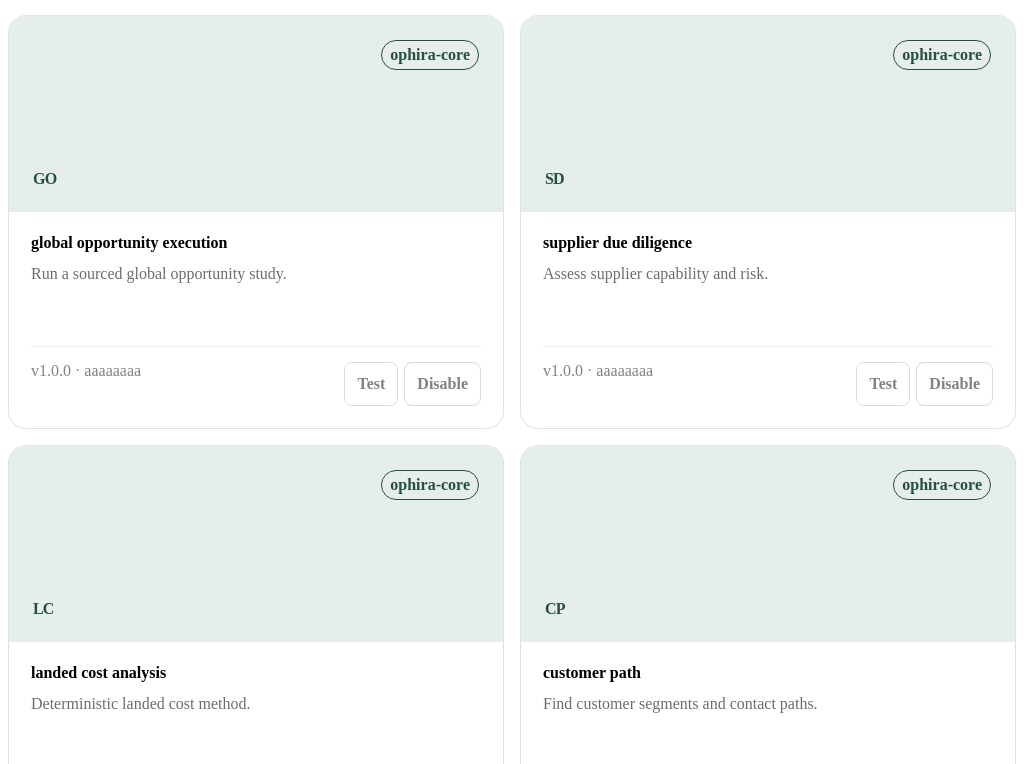
Test: SkillsPage › runs the deterministic package test and renders the checks
This screenshot has width=1024, height=764.
(page scrolled)
expect the heading "supplier due diligence" is shown: met, box [543,234,692,251]
Click the button "Test" below "Assess supplier capability and risk." at (883, 384), box [856,362,910,406]
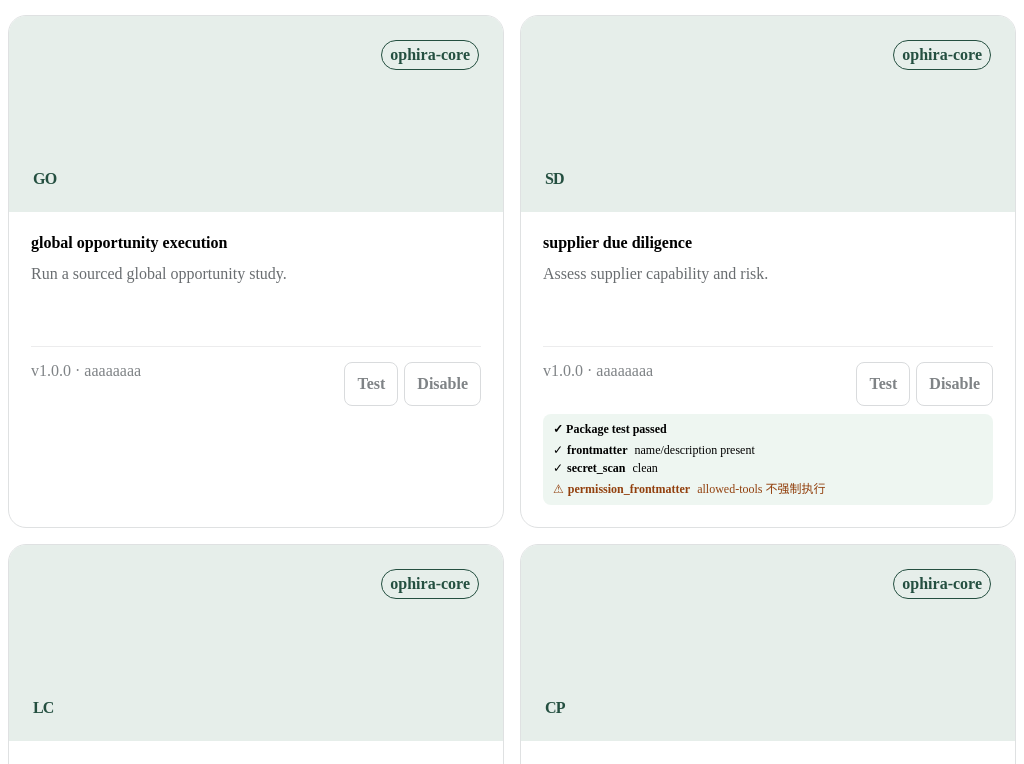
expect the text "✓ Package test passed" is shown: met, box [553,422,667,436]
expect the text "secret_scan" is shown: met, box [567,461,626,475]
expect the list item "⚠permission_frontmatter allowed-tools 不强制执行" is shown: met, box [553,482,826,496]
